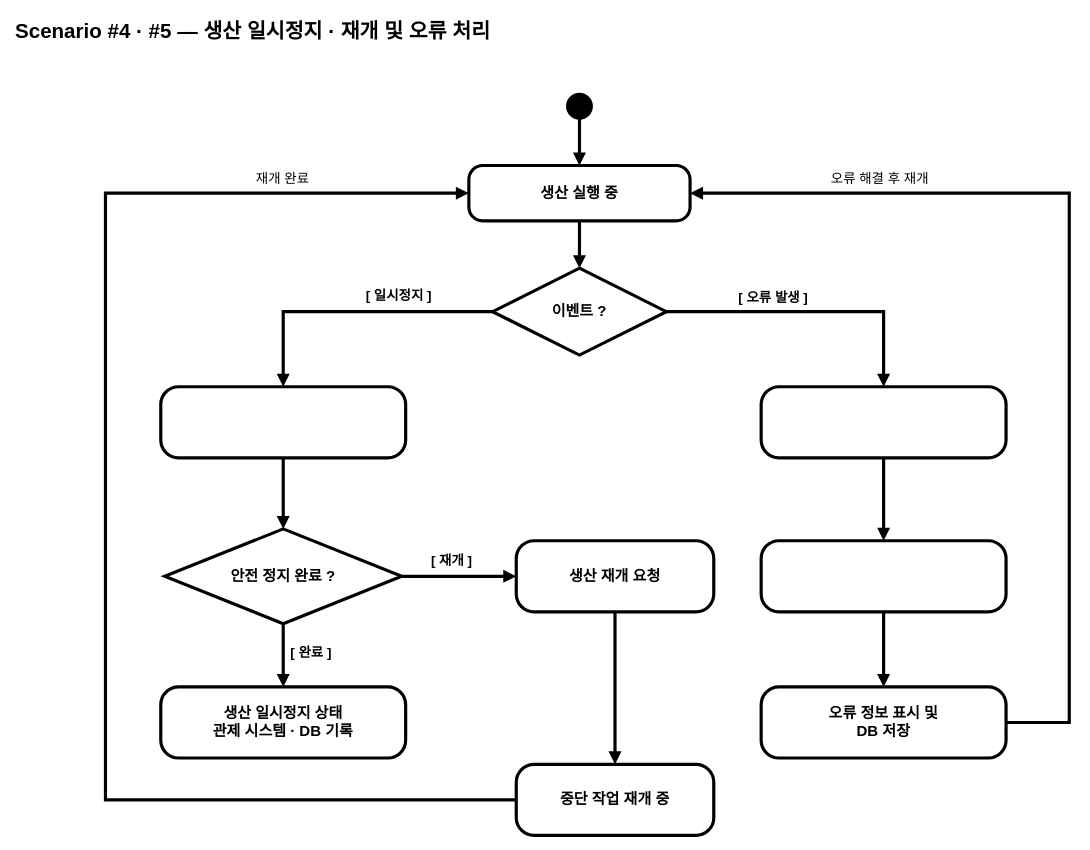
The diagram is 1090 pixels wide and 850 high, and some of its shapes have lost their labels. Each missing label, with the centre of its shape:
"생산 중지" belongs at (883,576).
"오류 감지 상태" belongs at (883,422).
"일시정지 요청 처리 현재 작업에 PAUSE 요청" belongs at (283,422).
